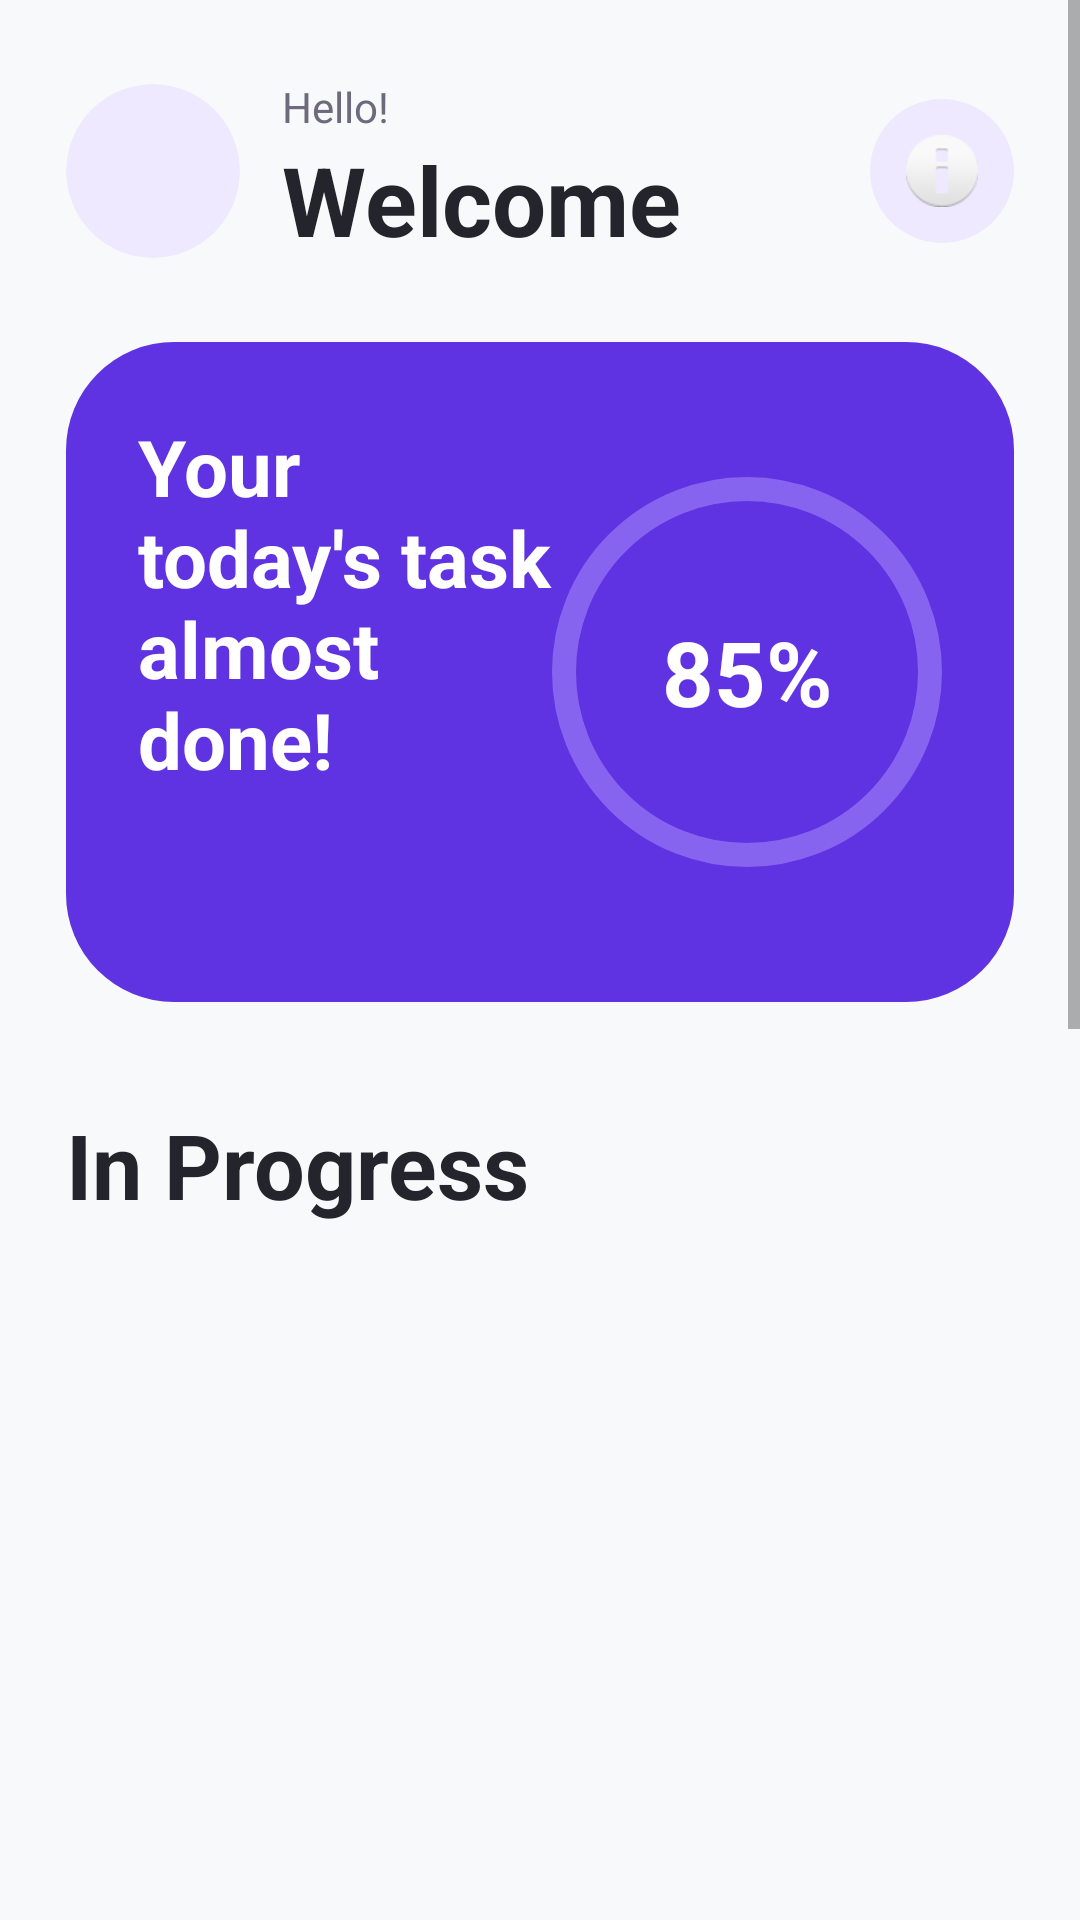

Icon click points for this 1080 × 1920 phone screenshot, format [x,y]:
info: [942,177]
